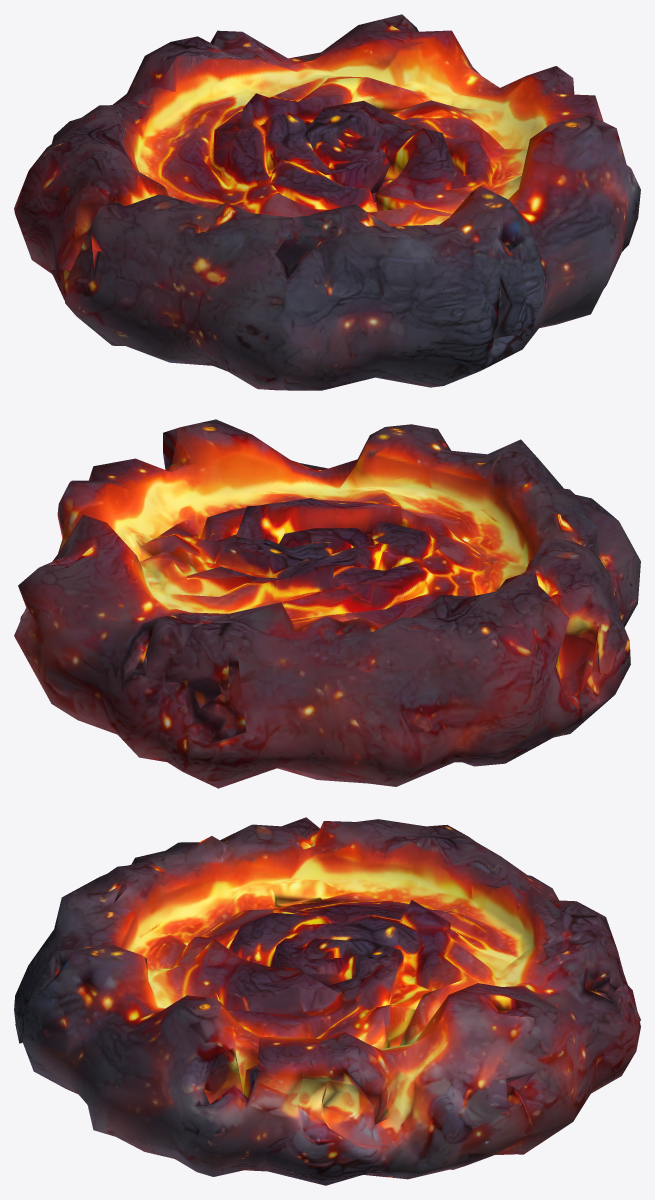
File: molten+lava+3d+model.obj
3 views of the same model, one above another, from view 1: azimuth 30°, elevation 25°; view 2: azimuth 150°, elevation 25°; view 3: azimuth 270°, elevation 25° (orthographic). The views are drawn at different scales.
Visible parts, largest first — view 1: tripo_node_3867a5e2-a0e2-4a3e-8bc3-dee9aa7033bc; view 2: tripo_node_3867a5e2-a0e2-4a3e-8bc3-dee9aa7033bc; view 3: tripo_node_3867a5e2-a0e2-4a3e-8bc3-dee9aa7033bc.
Boxes of the visible parts, <box> form: tripo_node_3867a5e2-a0e2-4a3e-8bc3-dee9aa7033bc: <box>14,14,640,390</box>; tripo_node_3867a5e2-a0e2-4a3e-8bc3-dee9aa7033bc: <box>14,419,640,788</box>; tripo_node_3867a5e2-a0e2-4a3e-8bc3-dee9aa7033bc: <box>14,817,640,1185</box>.
Size of the model in its own units: 0.9717 by 0.3126 by 0.9936.
1 material, 1 textured.
